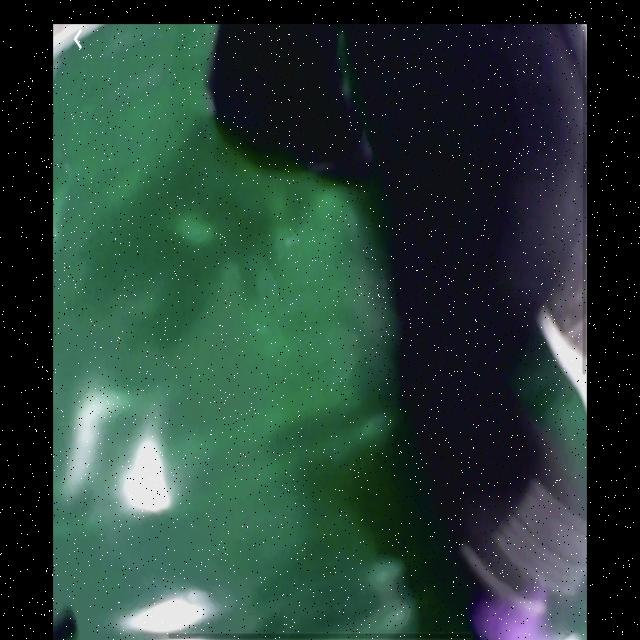ball: (472, 592, 551, 640)
